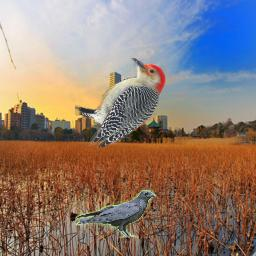Crow: (75, 190, 156, 238)
Woodpecker: (75, 58, 166, 148)
